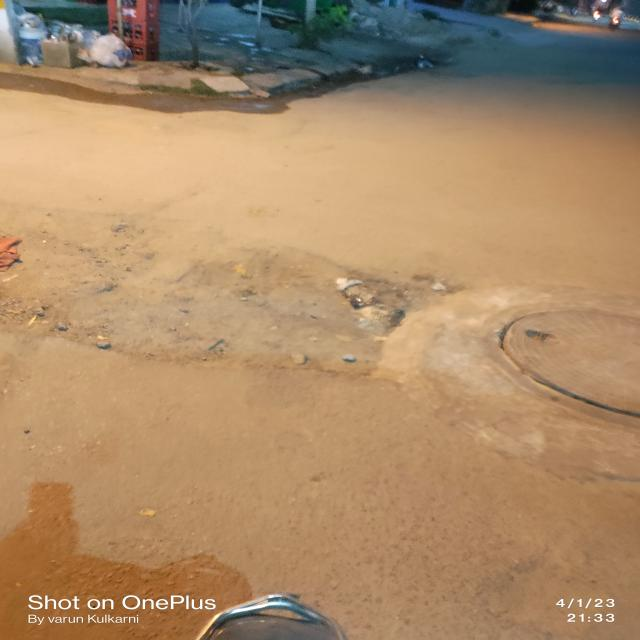manhole: (487, 278, 640, 440)
potholes: (6, 196, 391, 384)
